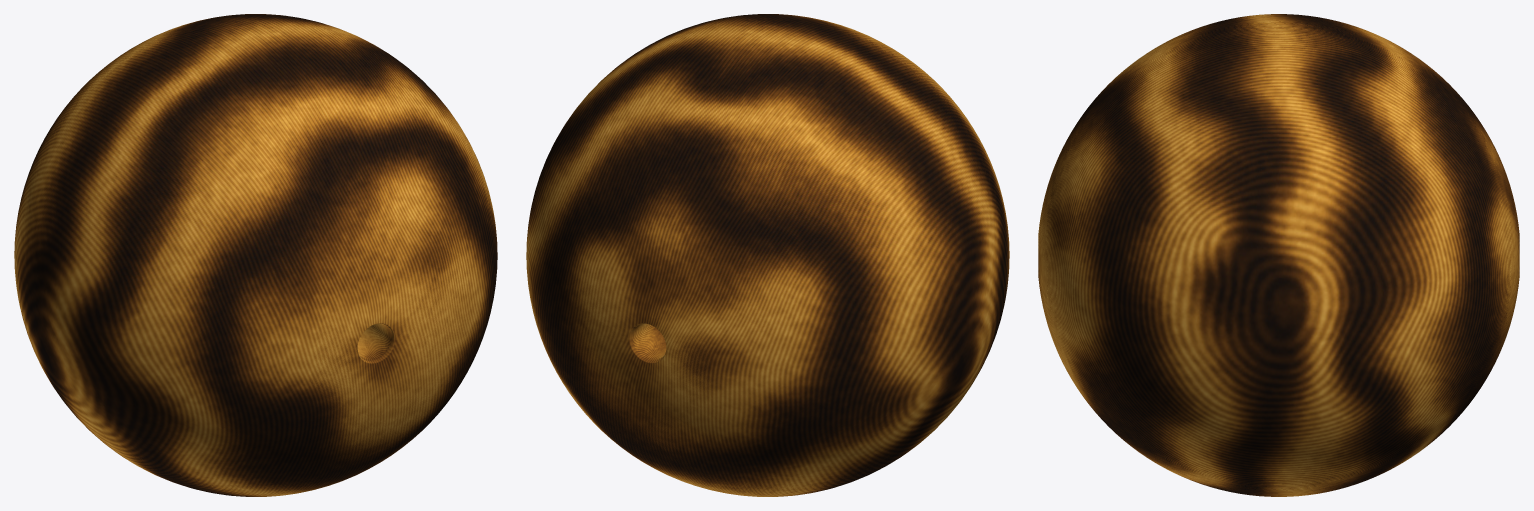
File: tigers-eye-12mm.glb
3 renders of one model, left to right at view 1: azimuth 30°, elevation 25°; view 2: azimuth 150°, elevation 25°; view 3: azimuth 270°, elevation 25°, orthographic.
Parts seen in each view (by area): view 1: tigers-eye.001; view 2: tigers-eye.001; view 3: tigers-eye.001.
Part boxes in pixels (x1,y1,x2,y2): tigers-eye.001: [14, 14, 497, 496]; tigers-eye.001: [526, 14, 1009, 496]; tigers-eye.001: [1038, 14, 1519, 496].
Bounding box in the file's own units: 0.012 × 0.012 × 0.012.
1 material, 1 textured.
